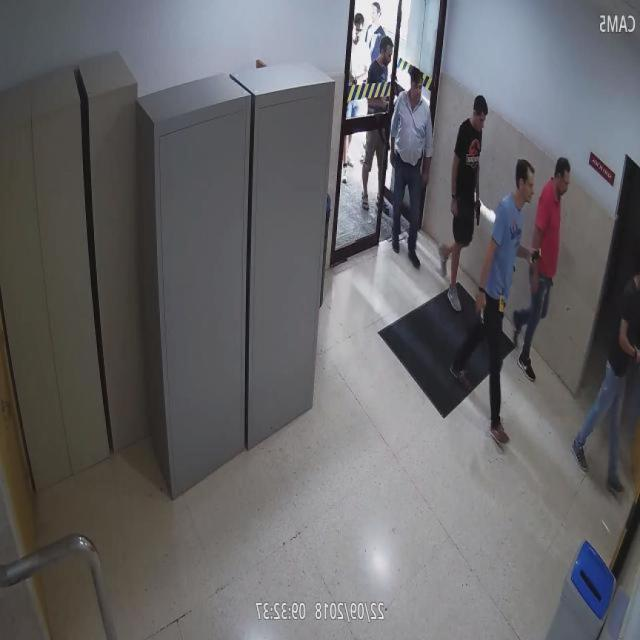pistol: (472, 289, 488, 326), (473, 192, 482, 224)
